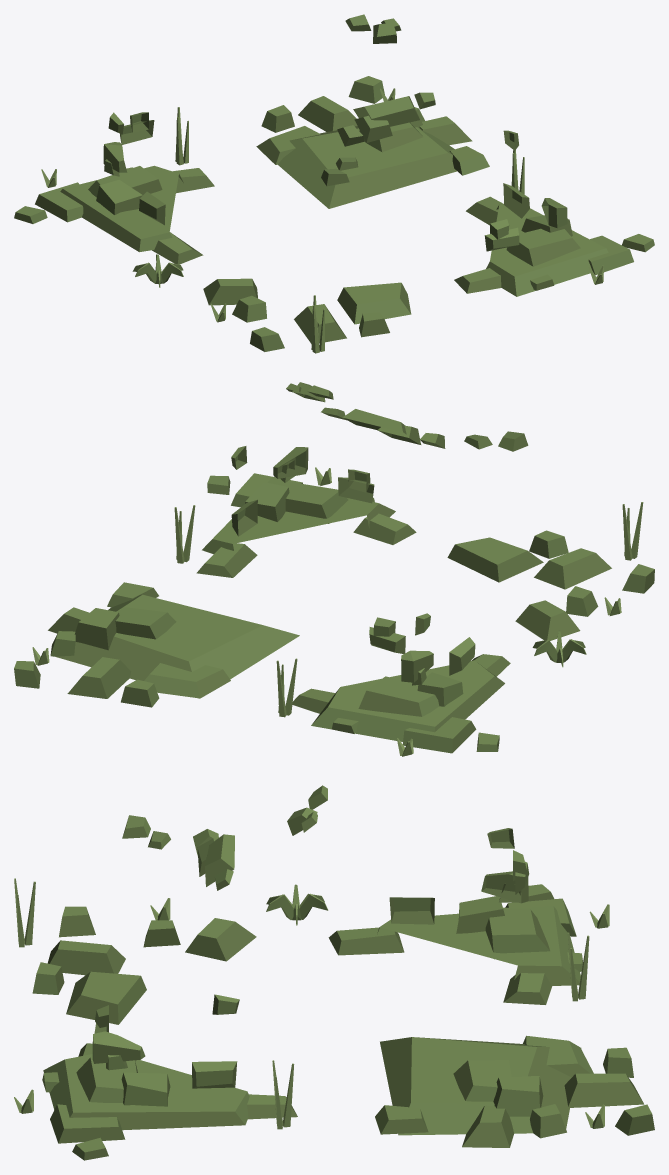
The model's file is SA_Bld_HouseSmall_Growth_01.gltf.
3 views of the same model, one above another, from view 1: azimuth 30°, elevation 25°; view 2: azimuth 150°, elevation 25°; view 3: azimuth 270°, elevation 25° (orthographic). The views are drawn at different scales.
Parts seen in each view (by area): view 1: SA_Bld_HouseSmall_Growth_01; view 2: SA_Bld_HouseSmall_Growth_01; view 3: SA_Bld_HouseSmall_Growth_01.
Boxes of the visible parts, x1,y1,x2,y2 form: SA_Bld_HouseSmall_Growth_01: (14, 14, 654, 353); SA_Bld_HouseSmall_Growth_01: (14, 382, 654, 756); SA_Bld_HouseSmall_Growth_01: (14, 785, 654, 1160).
Size of the model in its own units: 22.01 by 9.82 by 22.1.
1 material, 1 textured.
